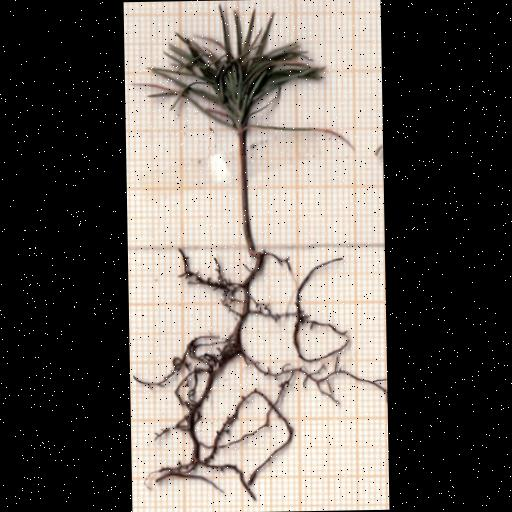flowerCedr: (148, 6, 325, 131)
rootCedr: (156, 250, 386, 498)
stemCedr: (236, 129, 254, 259)
